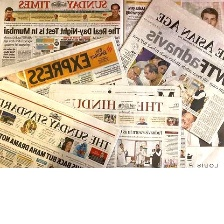news_paper: (117, 0, 224, 143), (52, 79, 188, 170), (0, 76, 125, 169), (0, 32, 128, 103), (0, 0, 126, 71), (124, 85, 224, 171)
